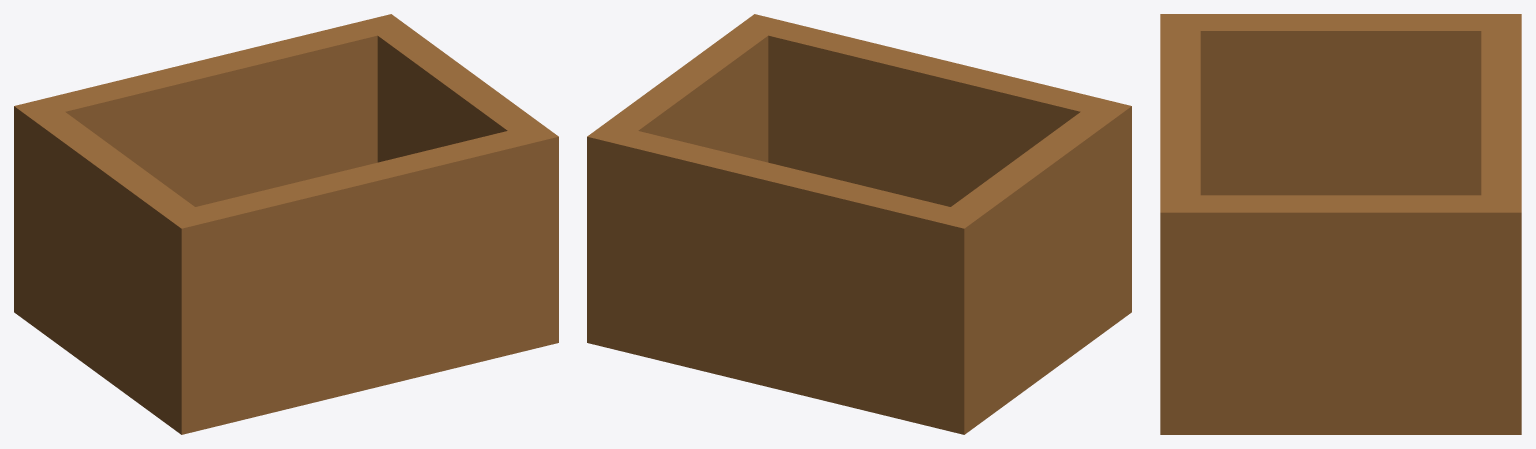
The model's file is box_02_mockup.fbx.
The picture shows the model from 3 angles, left to right: view 1: azimuth 30°, elevation 25°; view 2: azimuth 150°, elevation 25°; view 3: azimuth 270°, elevation 25°; orthographic projection. The views are drawn at different scales.
Visible parts, largest first — view 1: Plane; view 2: Plane; view 3: Plane.
Part boxes in pixels (box(x1,y1,x2,y2)): Plane: box(14, 14, 558, 434); Plane: box(587, 14, 1131, 434); Plane: box(1160, 14, 1521, 434).
Bounding box in the file's own units: 0.2573 × 0.1979 × 0.1344.
